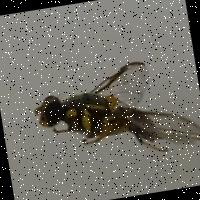Oriental-fruit-fly: (17, 36, 200, 190)
